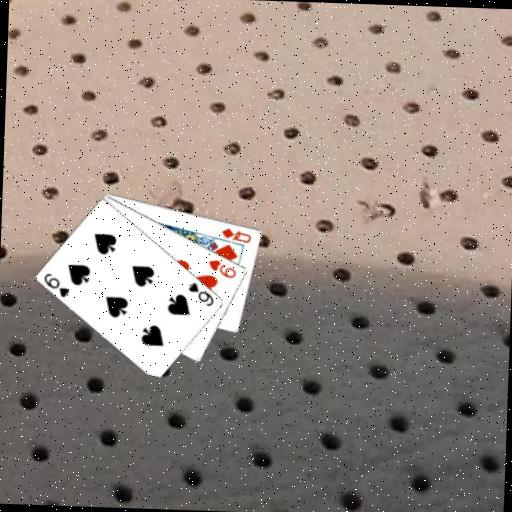6S: (40, 269, 71, 299), (185, 279, 216, 308)
9H: (205, 256, 238, 280)
QD: (218, 224, 253, 244)
